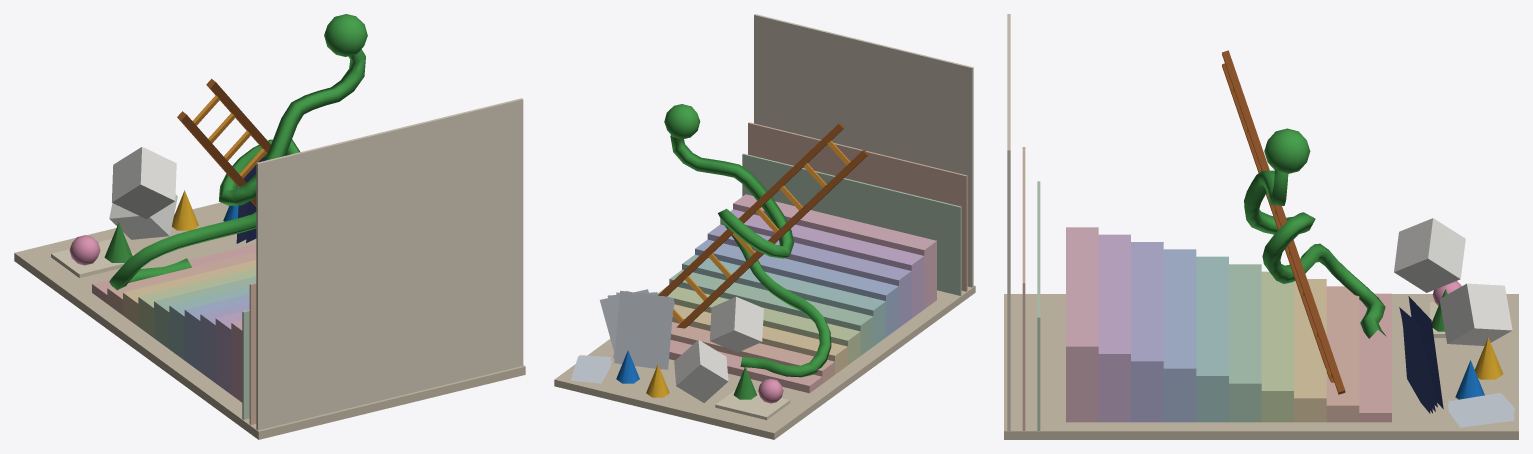
The picture shows the model from 3 angles, left to right: view 1: azimuth 30°, elevation 25°; view 2: azimuth 150°, elevation 25°; view 3: azimuth 270°, elevation 25°; orthographic projection. The views are drawn at different scales.
Visible parts, largest first — view 1: far; view 2: far; view 3: far.
Boxes of the visible parts, x1,y1,x2,y2 form: far: [14, 14, 525, 439]; far: [554, 14, 975, 439]; far: [1004, 14, 1518, 439].
Bounding box in the file's own units: 11.96 × 11.75 × 18.96.
